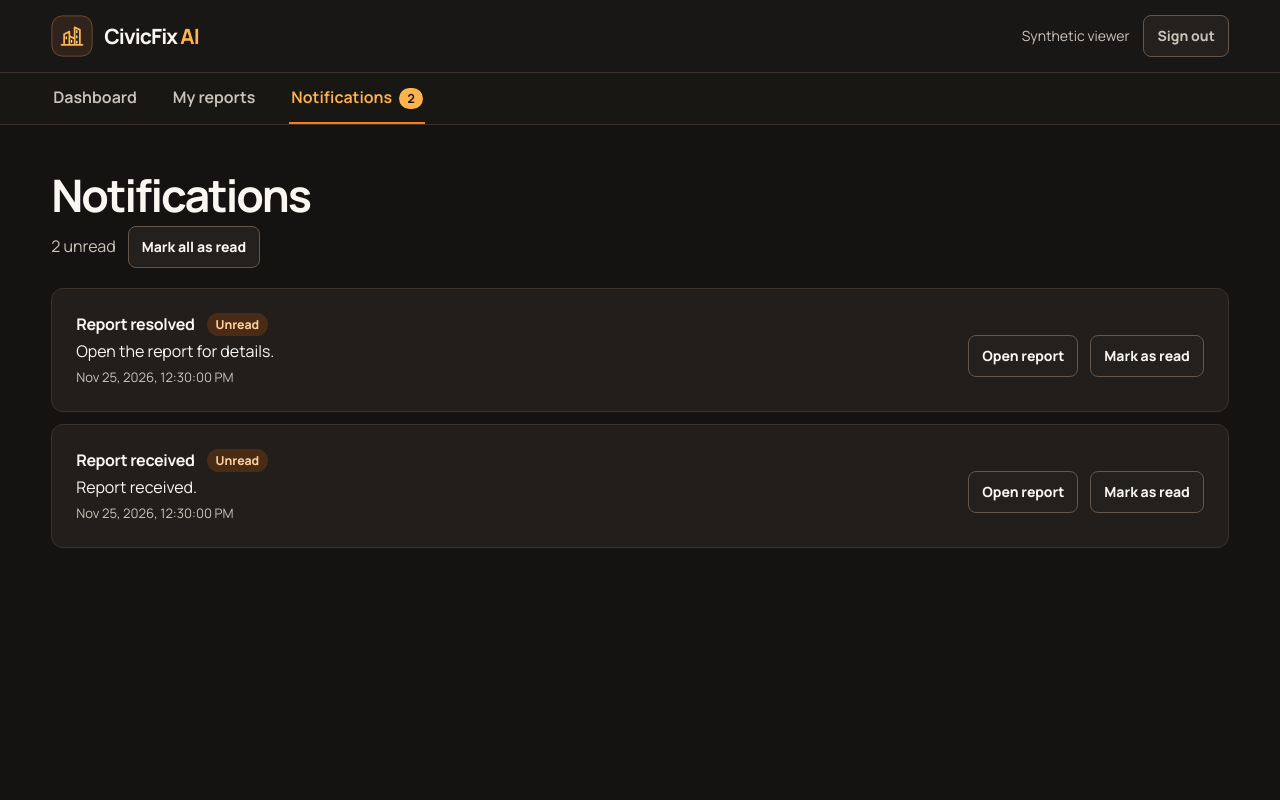
Scenario: links a notification to its report and refreshes unread counts after marking one or all
Expected: the text named "2 unread notifications" is shown, [399,88,423,109]
Click the button with aria-label "Mark as read · Report resolved".
click(1147, 356)  # box [1090,335,1204,377]
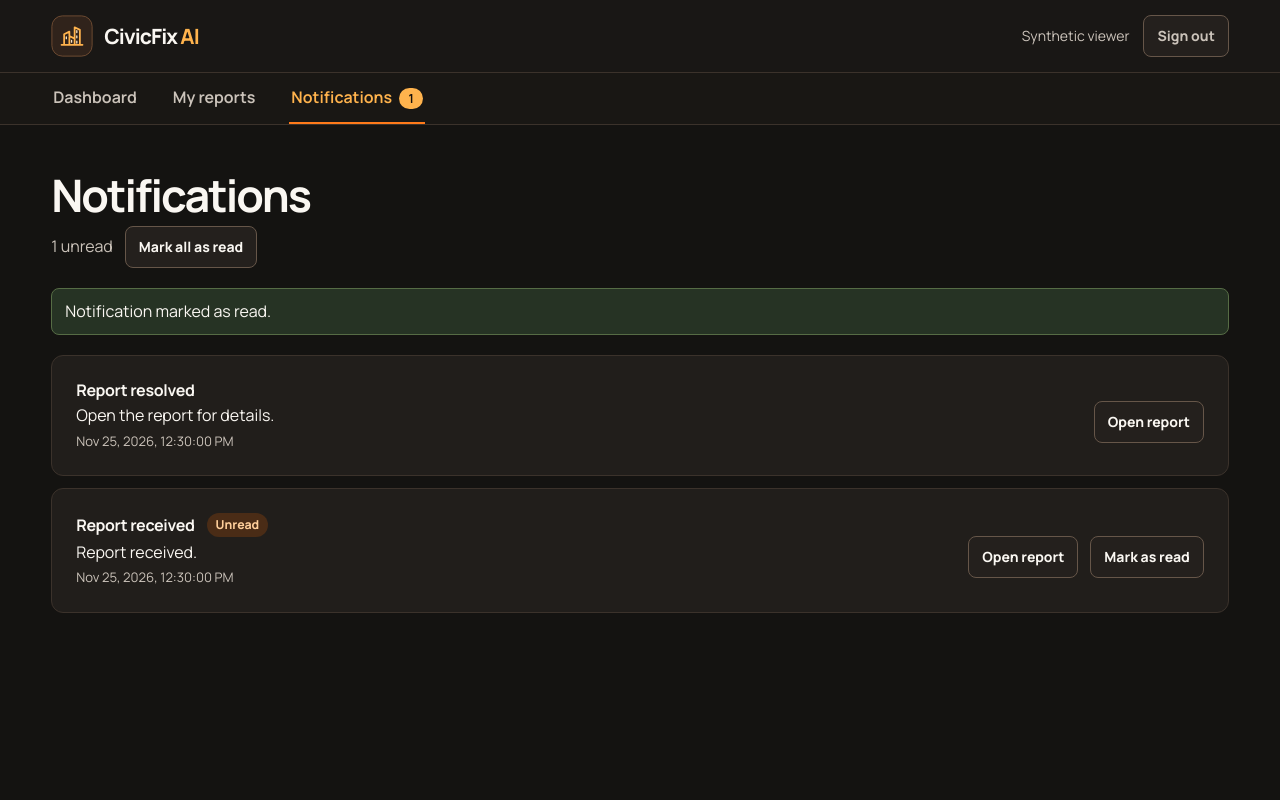
Expected: the text named "1 unread notifications" is shown, [399,88,423,109]
Click the button "Mark all as read".
click(191, 247)  # box [125,226,257,268]
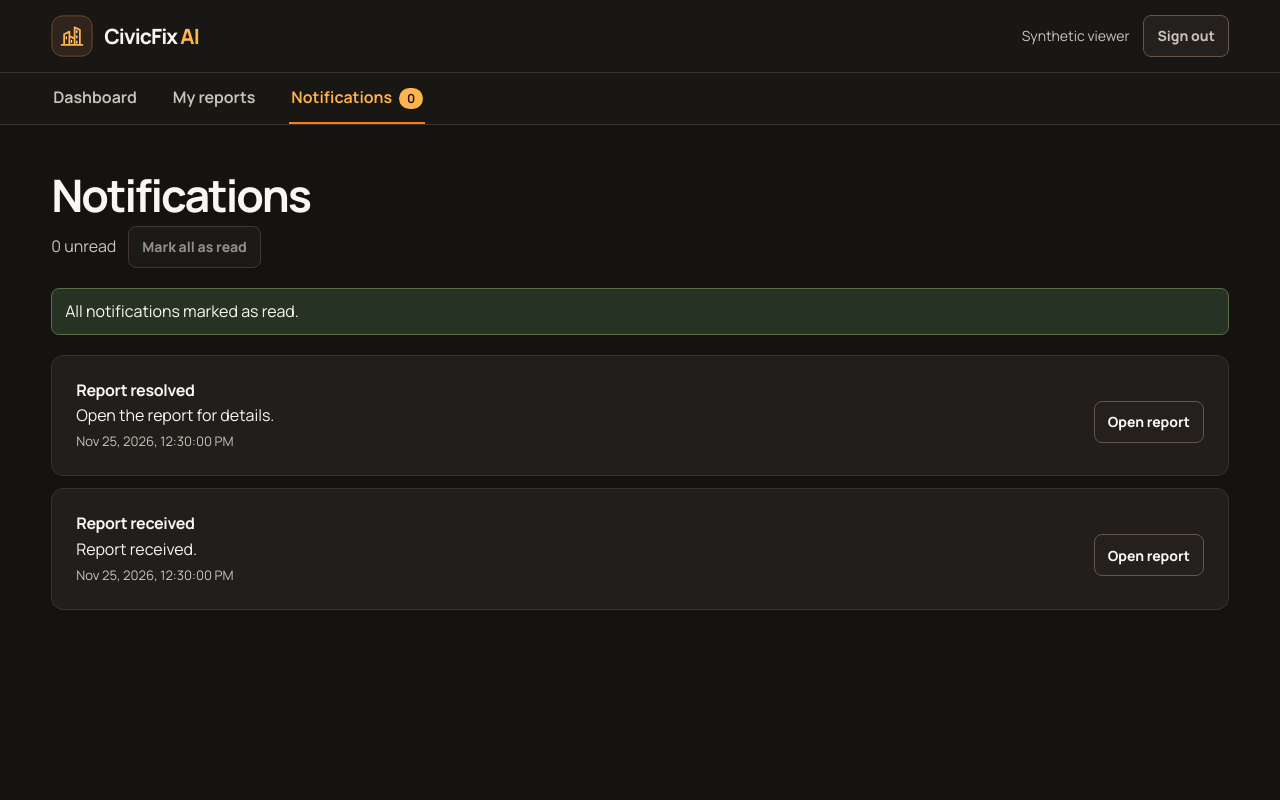
Expected: the text named "0 unread notifications" is shown, [399,88,423,109]
